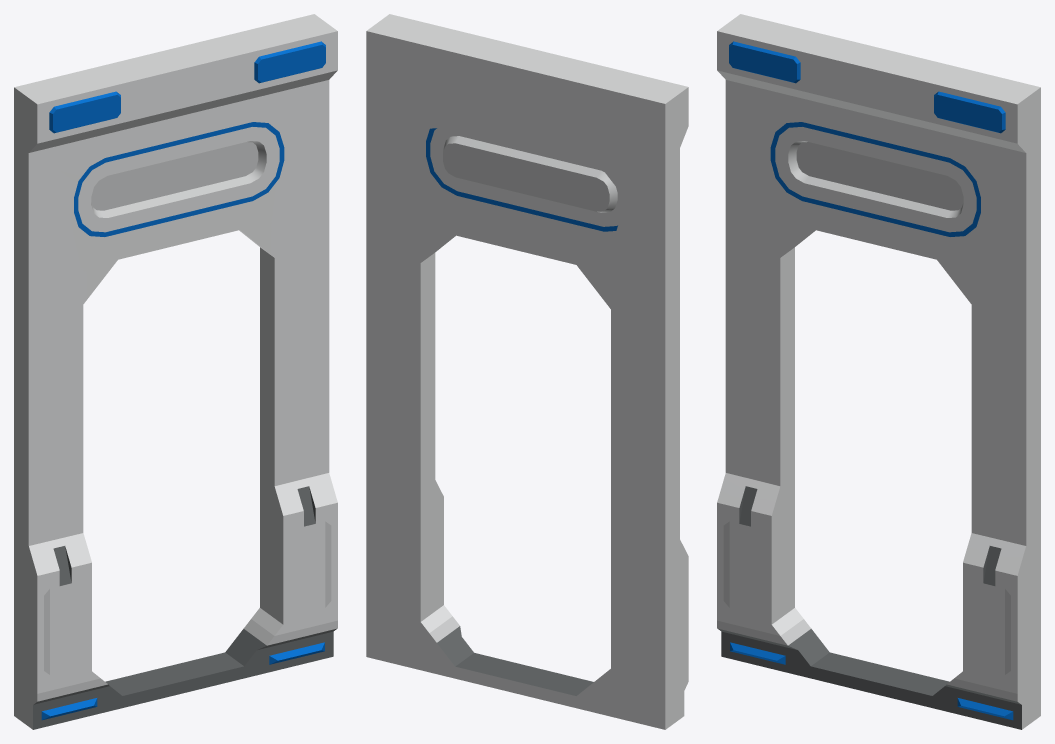
The model's file is Wall_type_A_054.fbx.
The picture shows the model from 3 angles, left to right: view 1: azimuth 30°, elevation 25°; view 2: azimuth 150°, elevation 25°; view 3: azimuth 330°, elevation 25°; orthographic projection.
Parts seen in each view (by area): view 1: Wall_type_A_054; view 2: Wall_type_A_054; view 3: Wall_type_A_054.
Boxes of the visible parts, x1=… form: Wall_type_A_054: x1=14, y1=14, x2=337, y2=729; Wall_type_A_054: x1=366, y1=14, x2=688, y2=729; Wall_type_A_054: x1=717, y1=14, x2=1040, y2=729.
Size of the model in its own units: 200 by 28.98 by 400.
